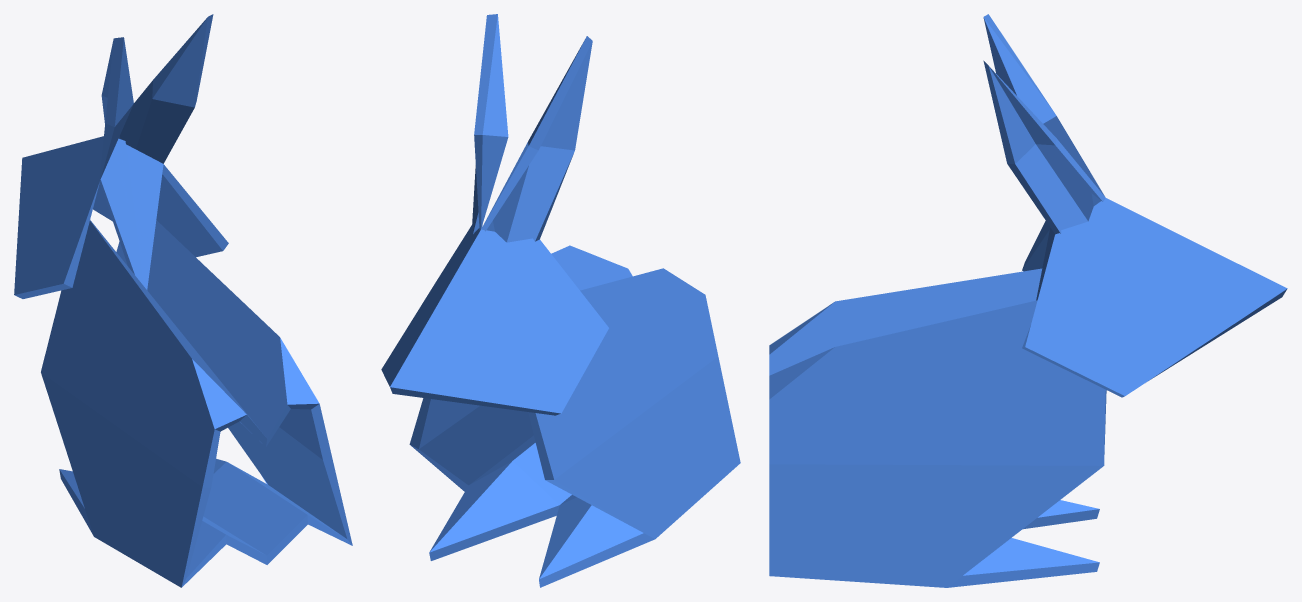
File: rabbit.fbx
3 renders of one model, left to right at view 1: azimuth 30°, elevation 25°; view 2: azimuth 150°, elevation 25°; view 3: azimuth 270°, elevation 25°, orthographic. The views are drawn at different scales.
Visible parts, largest first — view 1: Rabbit; view 2: Rabbit; view 3: Rabbit.
Part boxes in pixels (x1,y1,x2,y2): Rabbit: (14,14,352,587); Rabbit: (381,14,740,587); Rabbit: (769,14,1287,587).
Bounding box in the file's own units: 153 × 393 × 365.
